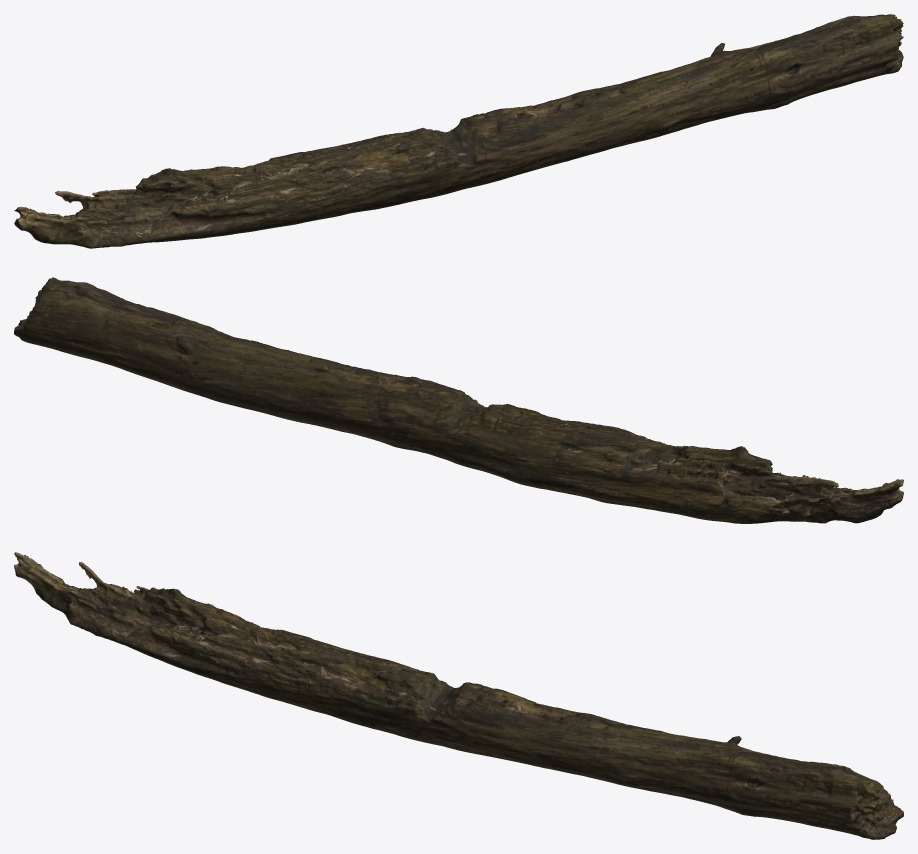
The model's file is dead_tree_trunk.glb.
3 views of the same model, one above another, from view 1: azimuth 30°, elevation 25°; view 2: azimuth 150°, elevation 25°; view 3: azimuth 330°, elevation 25° (orthographic).
Parts seen in each view (by area): view 1: dead_tree_trunk; view 2: dead_tree_trunk; view 3: dead_tree_trunk.
Part boxes in pixels (x1,y1,x2,y2): dead_tree_trunk: (14, 14, 903, 248); dead_tree_trunk: (14, 277, 903, 523); dead_tree_trunk: (14, 552, 903, 839).
Size of the model in its own units: 3.05 by 0.2905 by 0.2775.
1 material, 1 textured.
